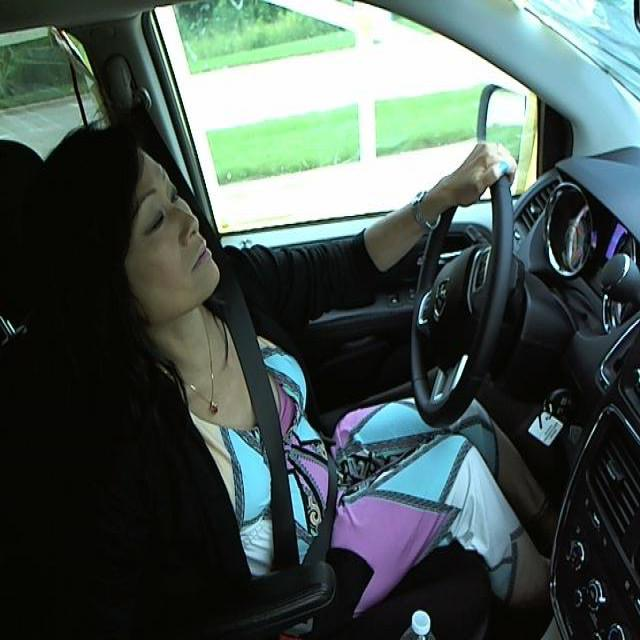seatbelt: (222, 305, 347, 568)
